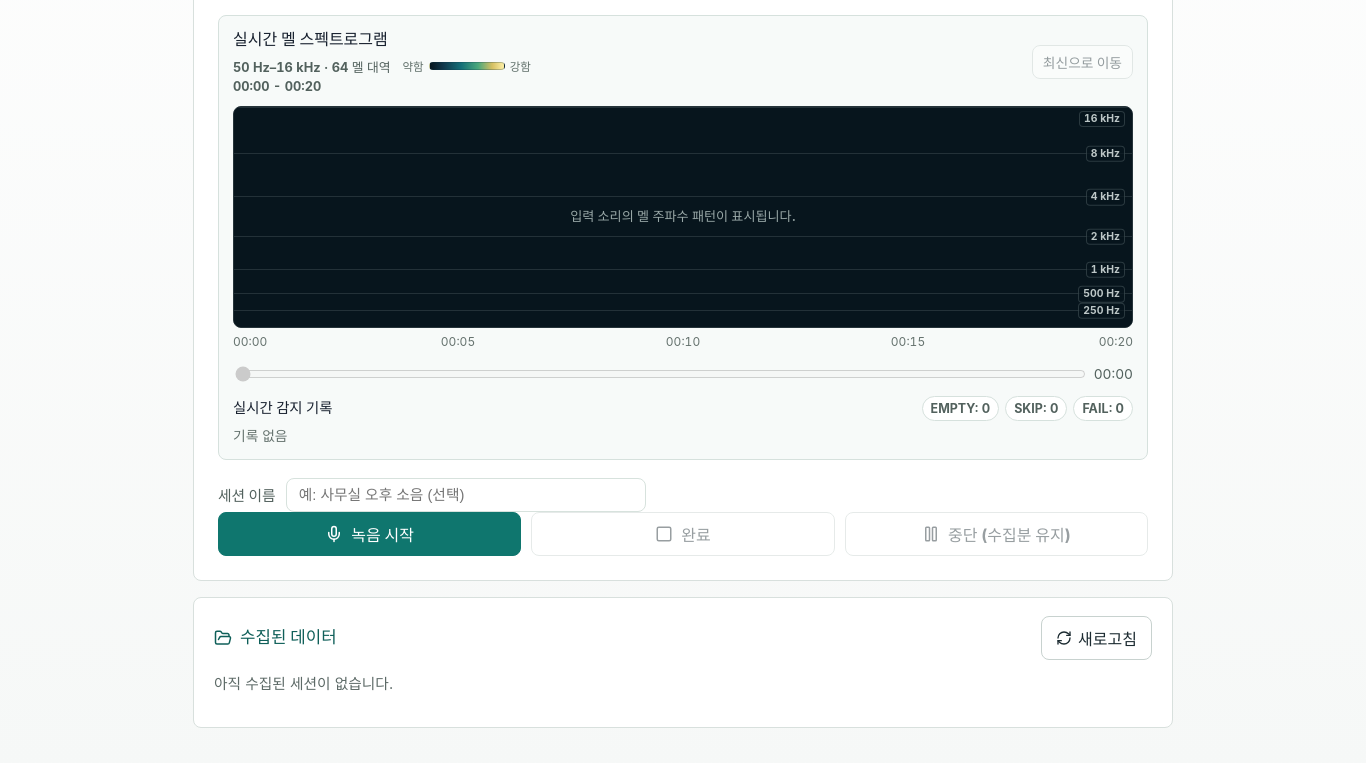
Test: App › ignores a stale initial runtime config that resolves after recording starts
This screenshot has width=1366, height=763.
(page scrolled)
Click the button "녹음 시작" at (370, 534), box [218, 512, 521, 556]
(page scrolled)
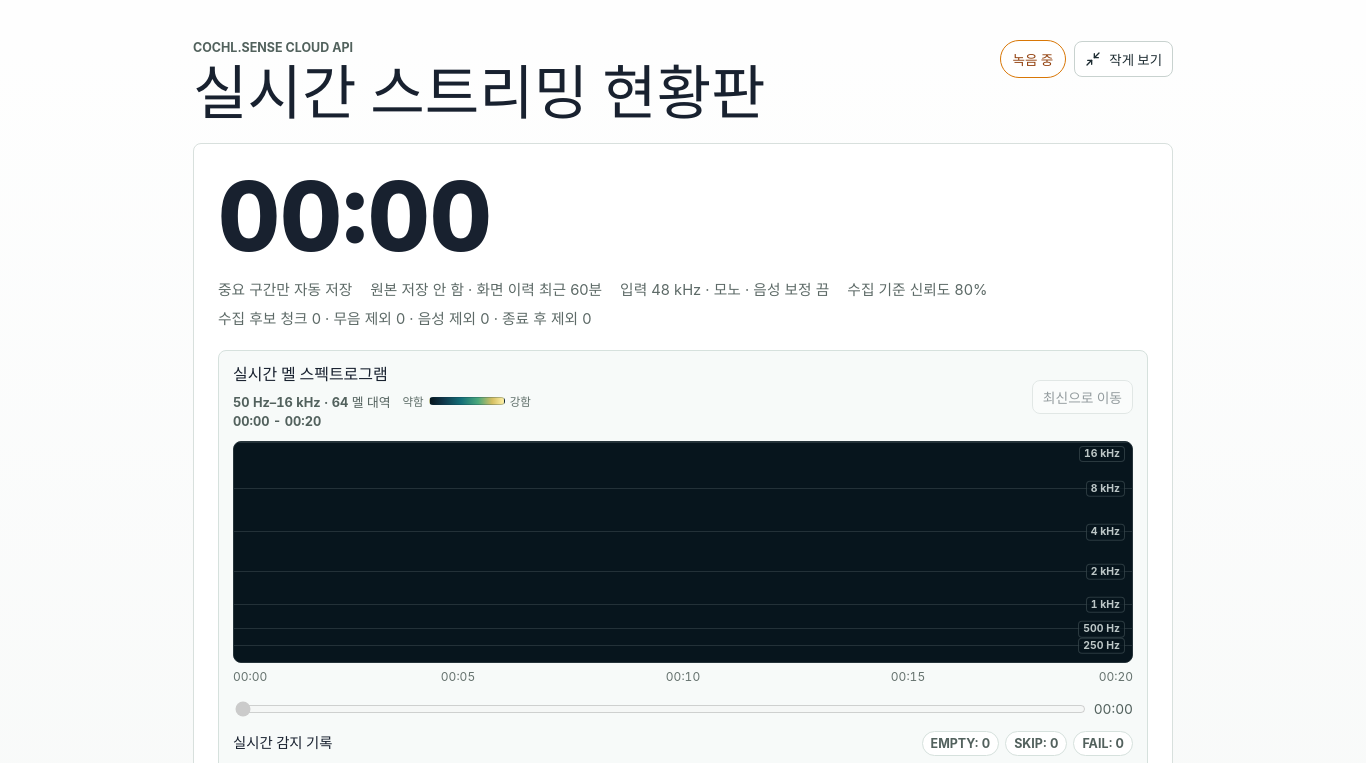
Expected: the text "수집 기준 신뢰도 80%" is shown, [847, 278, 987, 299]
